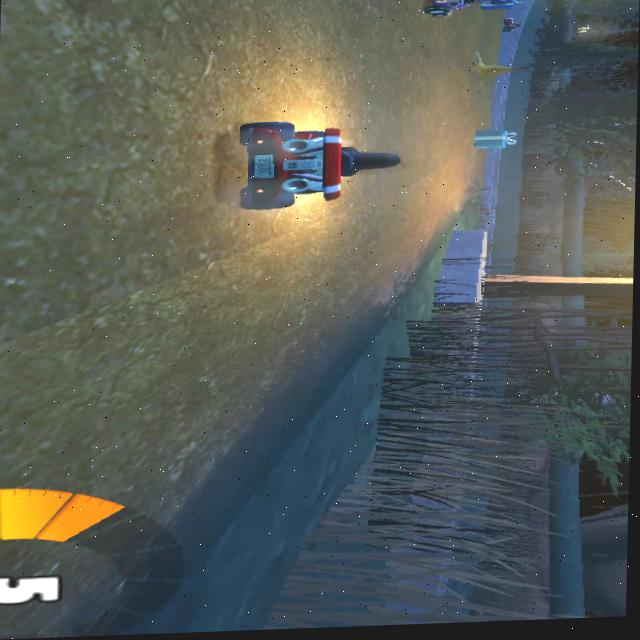bonus: (471, 125, 517, 152)
enemy_kart: (421, 0, 481, 22)
obstacle: (454, 52, 524, 92)
player_kart: (219, 89, 409, 238)
track: (0, 0, 203, 486), (202, 0, 411, 91), (200, 236, 401, 328), (409, 26, 452, 252), (195, 336, 306, 418), (454, 96, 499, 124), (493, 28, 522, 52), (462, 24, 489, 49), (522, 0, 532, 11)
